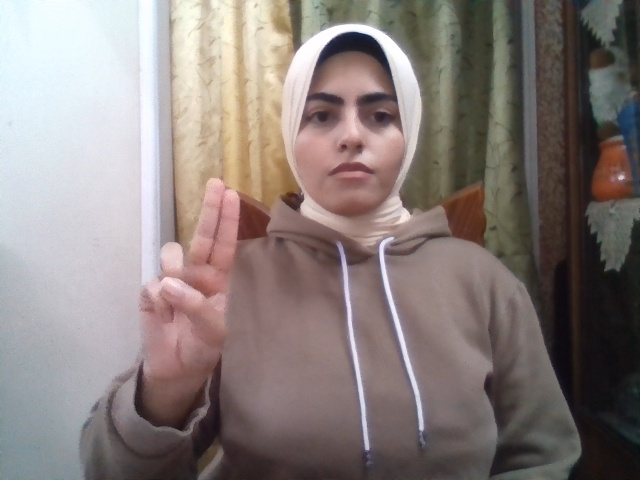U: (138, 178, 241, 381)
